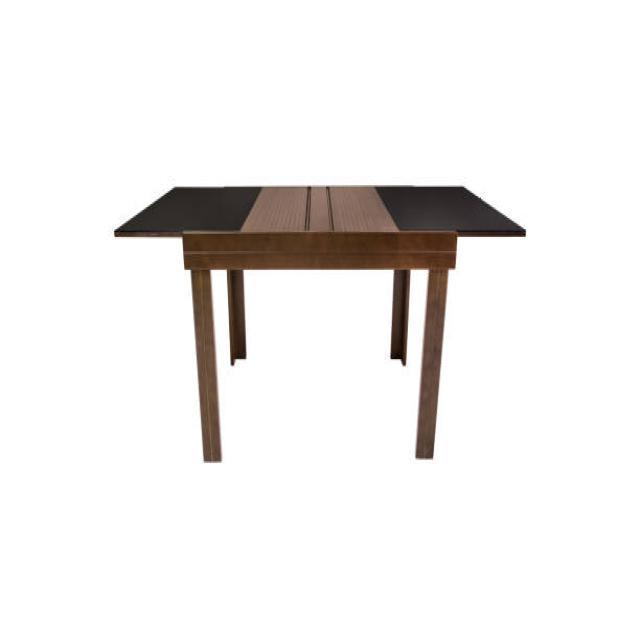table: (113, 182, 526, 463)
